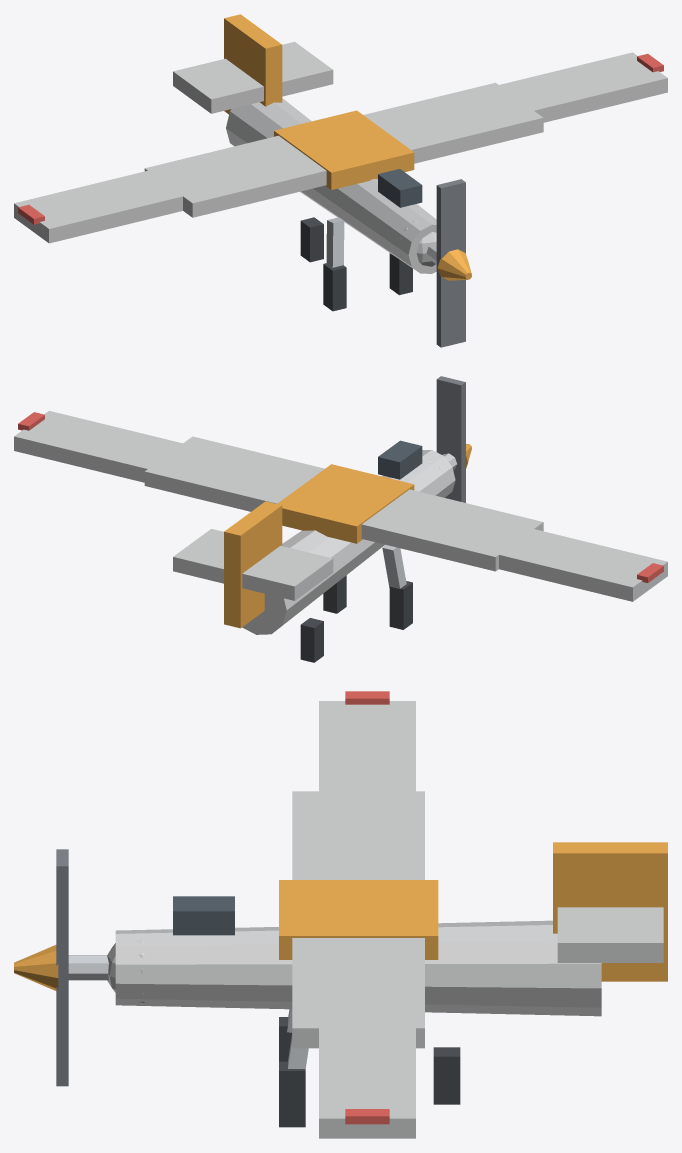
File: fixed-wing-uav.glb
3 renders of one model, top to bottom at view 1: azimuth 30°, elevation 25°; view 2: azimuth 150°, elevation 25°; view 3: azimuth 270°, elevation 25°, orthographic. The views are drawn at different scales.
Parts seen in each view (by area): view 1: fixed-wing-uav, prop-1/graphite, prop-1/orange; view 2: fixed-wing-uav, prop-1/graphite; view 3: fixed-wing-uav, prop-1/graphite, prop-1/orange.
Part boxes in pixels (box(x1,y1,x2,y2)): fixed-wing-uav: box(14, 14, 667, 311); prop-1/graphite: box(436, 179, 465, 347); prop-1/orange: box(437, 249, 471, 280); fixed-wing-uav: box(14, 410, 667, 662); prop-1/graphite: box(436, 376, 465, 502); fixed-wing-uav: box(68, 691, 667, 1138); prop-1/graphite: box(56, 849, 68, 1086); prop-1/orange: box(14, 945, 58, 990).
Size of the model in its own units: 2.28 by 0.63 by 1.48.
